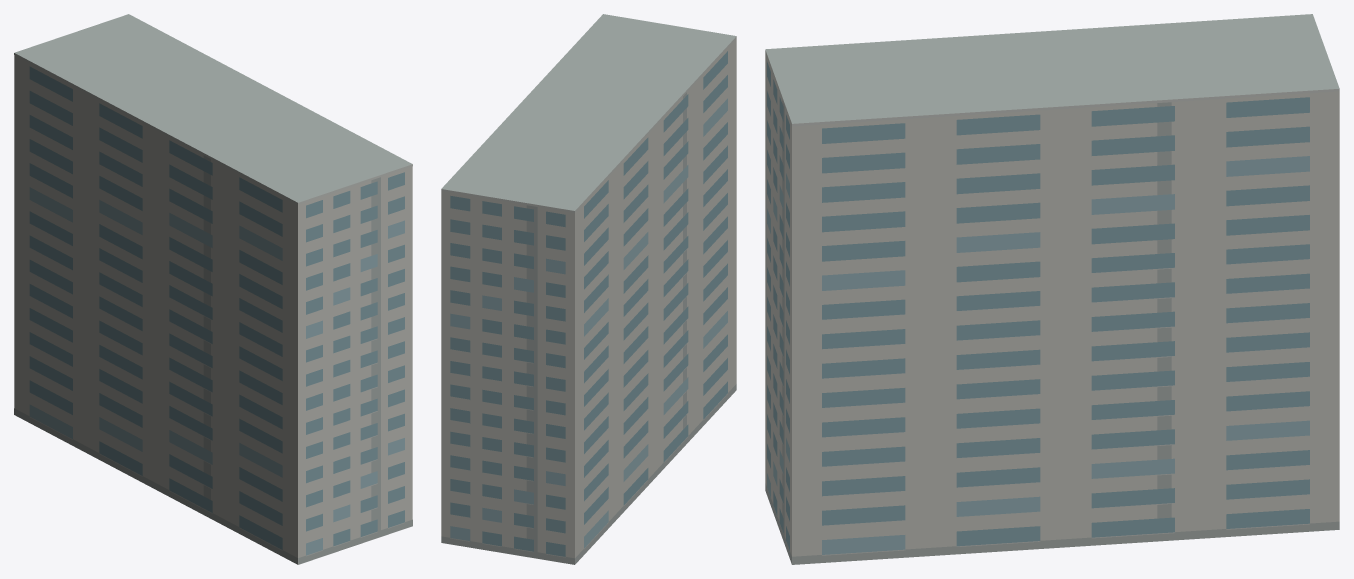
The model's file is residential-cfb3eef9-7049-4525-b1fb-f73691896efd.glb.
3 renders of one model, left to right at view 1: azimuth 30°, elevation 25°; view 2: azimuth 150°, elevation 25°; view 3: azimuth 270°, elevation 25°, orthographic. The views are drawn at different scales.
Visible parts, largest first — view 1: residential-cfb3eef9-7049-4525-b1fb-f73691896efd.tmp; view 2: residential-cfb3eef9-7049-4525-b1fb-f73691896efd.tmp; view 3: residential-cfb3eef9-7049-4525-b1fb-f73691896efd.tmp.
Boxes of the visible parts, x1=… form: residential-cfb3eef9-7049-4525-b1fb-f73691896efd.tmp: x1=14, y1=14, x2=412, y2=564; residential-cfb3eef9-7049-4525-b1fb-f73691896efd.tmp: x1=441, y1=14, x2=736, y2=564; residential-cfb3eef9-7049-4525-b1fb-f73691896efd.tmp: x1=765, y1=14, x2=1339, y2=564.
Bounding box in the file's own units: 21.39 × 40 × 47.23.
